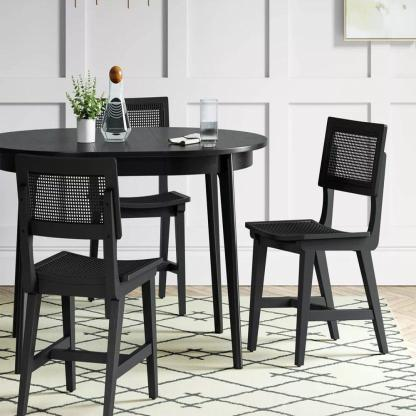chair: (0, 155, 162, 416), (245, 115, 399, 360), (96, 83, 191, 254)
table: (0, 125, 274, 370)
